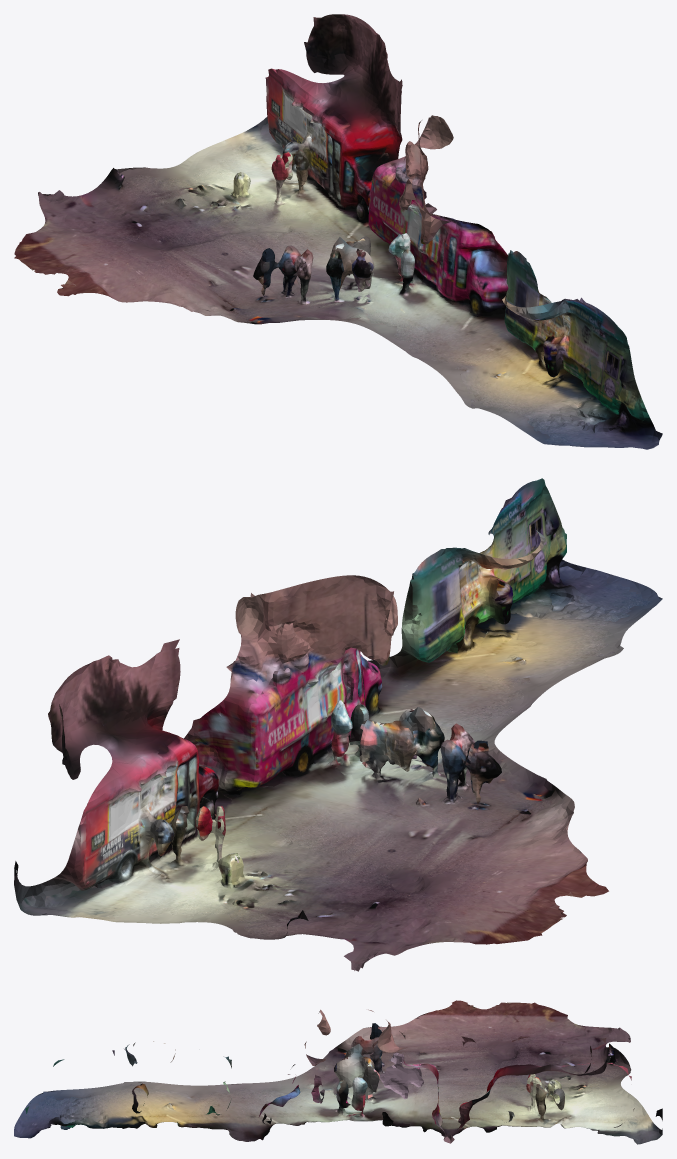
3 views of the same model, one above another, from view 1: azimuth 30°, elevation 25°; view 2: azimuth 150°, elevation 25°; view 3: azimuth 270°, elevation 25° (orthographic). The views are drawn at different scales.
Bounding box in the file's own units: 13.25 × 5.4 × 25.56.
1 material, 1 textured.
